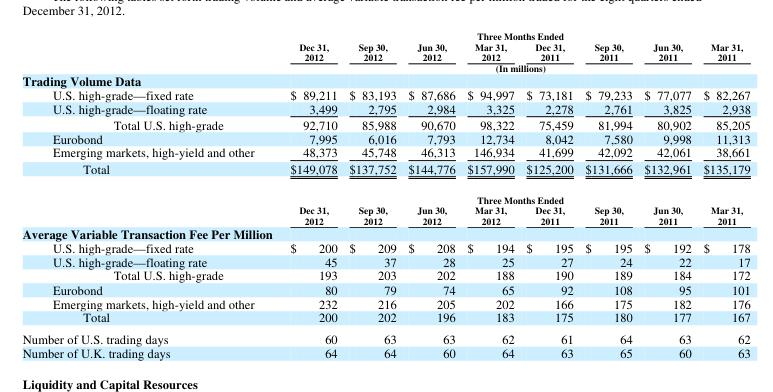table: (21, 29, 749, 360)
table column: (21, 29, 271, 360), (271, 29, 342, 360), (342, 29, 401, 360), (401, 29, 460, 360), (460, 29, 519, 360), (519, 29, 578, 360), (578, 29, 637, 360), (637, 29, 696, 360), (696, 29, 749, 360)
table column header: (21, 29, 749, 73)
table projected row header: (21, 225, 749, 240), (21, 73, 749, 87)
table row: (21, 159, 749, 184), (21, 41, 749, 62), (21, 184, 749, 204), (21, 309, 749, 327), (21, 327, 749, 345), (21, 100, 749, 115), (21, 115, 749, 130), (21, 144, 749, 159), (21, 225, 749, 240), (21, 345, 749, 360), (21, 73, 749, 87), (21, 130, 749, 144), (21, 253, 749, 267), (21, 267, 749, 281), (21, 281, 749, 295), (21, 295, 749, 309), (21, 87, 749, 100), (21, 240, 749, 253), (21, 29, 749, 41), (21, 62, 749, 73), (21, 204, 749, 215), (21, 215, 749, 225)
table spanning cell: (271, 184, 749, 204), (271, 29, 749, 41), (271, 62, 749, 73)
